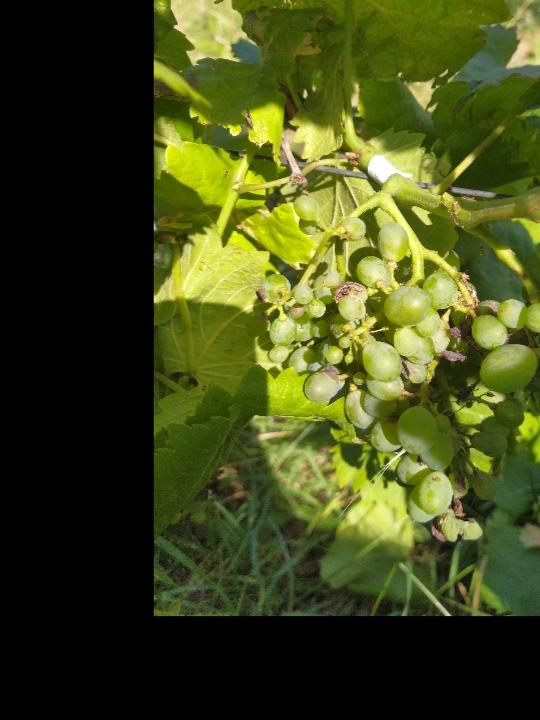grape: (253, 194, 540, 550)
